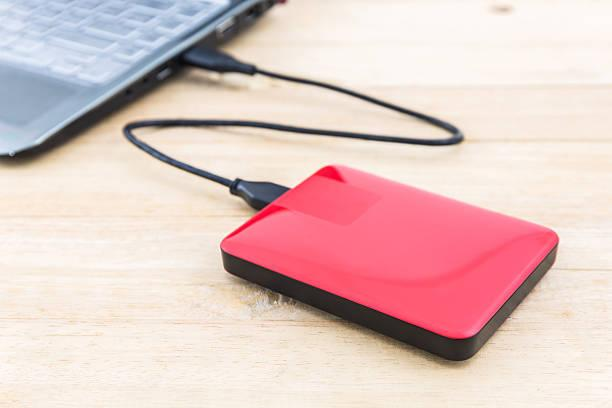HDD: (218, 165, 561, 363)
